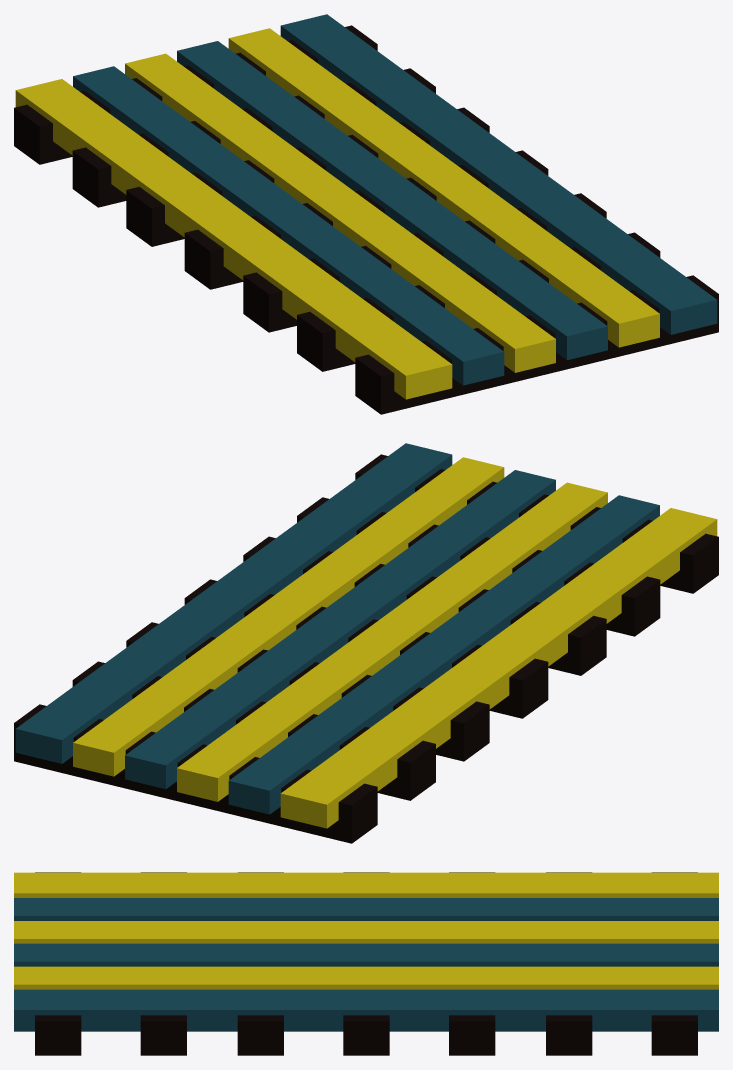
The model's file is pizo.fbx.
3 views of the same model, one above another, from view 1: azimuth 30°, elevation 25°; view 2: azimuth 150°, elevation 25°; view 3: azimuth 270°, elevation 25° (orthographic). The views are drawn at different scales.
Visible parts, largest first — view 1: Mesh (5); view 2: Mesh (5); view 3: Mesh (5).
Boxes of the visible parts, x1=… form: Mesh (5): x1=14, y1=14, x2=718, y2=414; Mesh (5): x1=14, y1=443, x2=718, y2=843; Mesh (5): x1=14, y1=872, x2=718, y2=1055.
Bounding box in the file's own units: 400 × 50 × 800.
